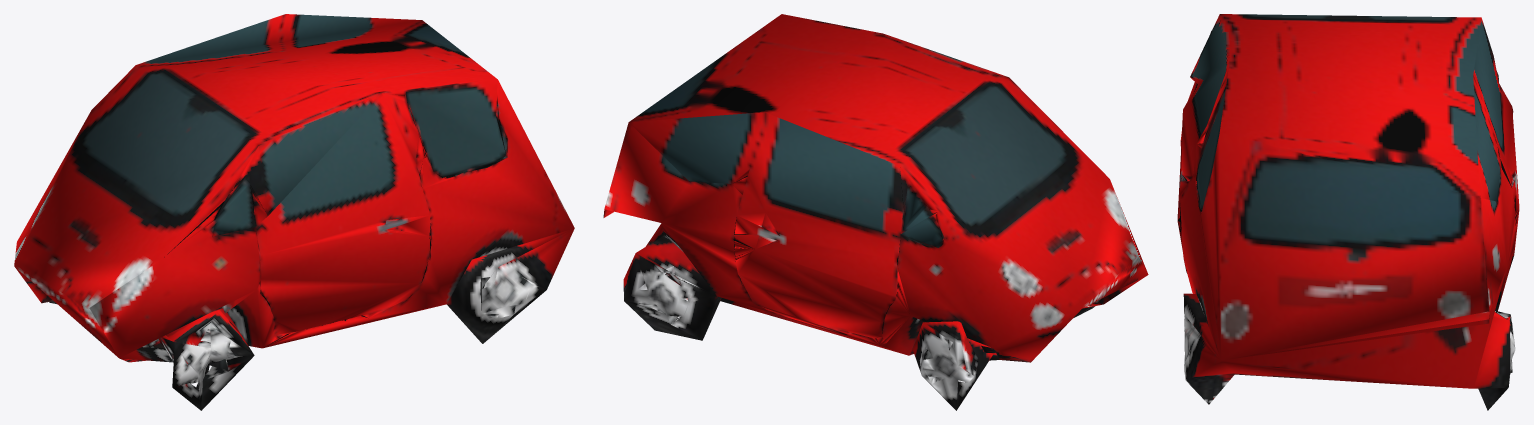
Rendered from car.fbx.
The picture shows the model from 3 angles, left to right: view 1: azimuth 30°, elevation 25°; view 2: azimuth 150°, elevation 25°; view 3: azimuth 270°, elevation 25°; orthographic projection. The views are drawn at different scales.
Parts seen in each view (by area): view 1: Major_car; view 2: Major_car; view 3: Major_car.
Part boxes in pixels (box(x1,y1,x2,y2)): Major_car: box(14, 14, 574, 410); Major_car: box(603, 14, 1148, 410); Major_car: box(1177, 14, 1519, 410).
Bounding box in the file's own units: 1.46 × 0.7764 × 0.8208.
Materials: 1 (1 with a texture image).
